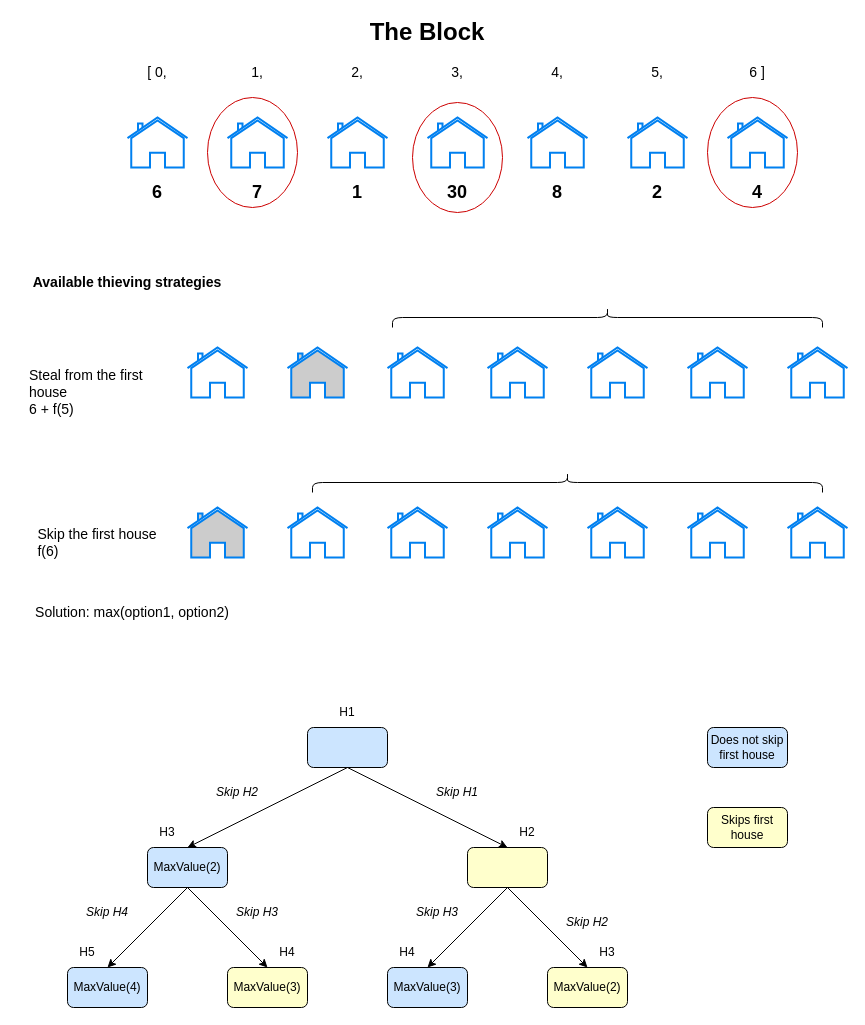
The diagram is 865 pixels wide and 1025 high, and some of its shapes have lost their labels. The centre of each missing label's shape, as x and y in pixels:
"MaxValue(0)" belongs at [347,747].
"MaxValue(1)" belongs at [507,867].
"Remaining 5" belongs at [607,317].
"Remaining 6" belongs at [567,482].
